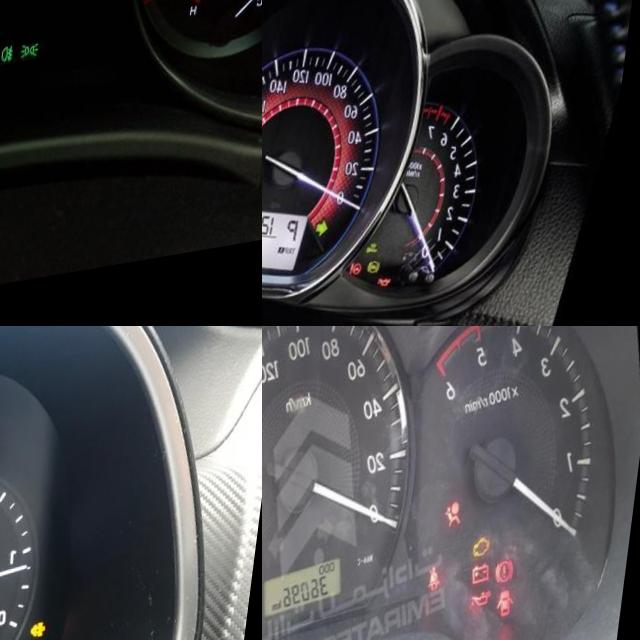Electronic Power Steering: (362, 276, 376, 291)
FrontFogLight: (11, 55, 27, 75)
Seat Belt: (438, 582, 453, 608)
SideLamp: (32, 53, 50, 71)
